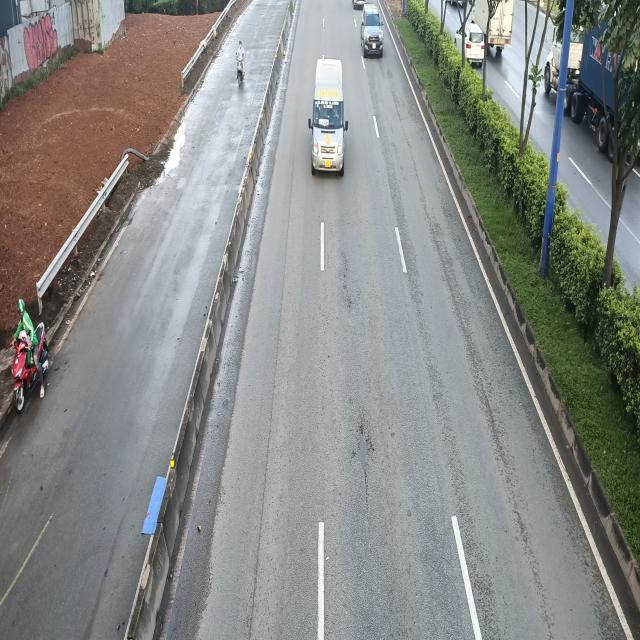car: (359, 4, 384, 58)
van: (308, 59, 348, 175)
